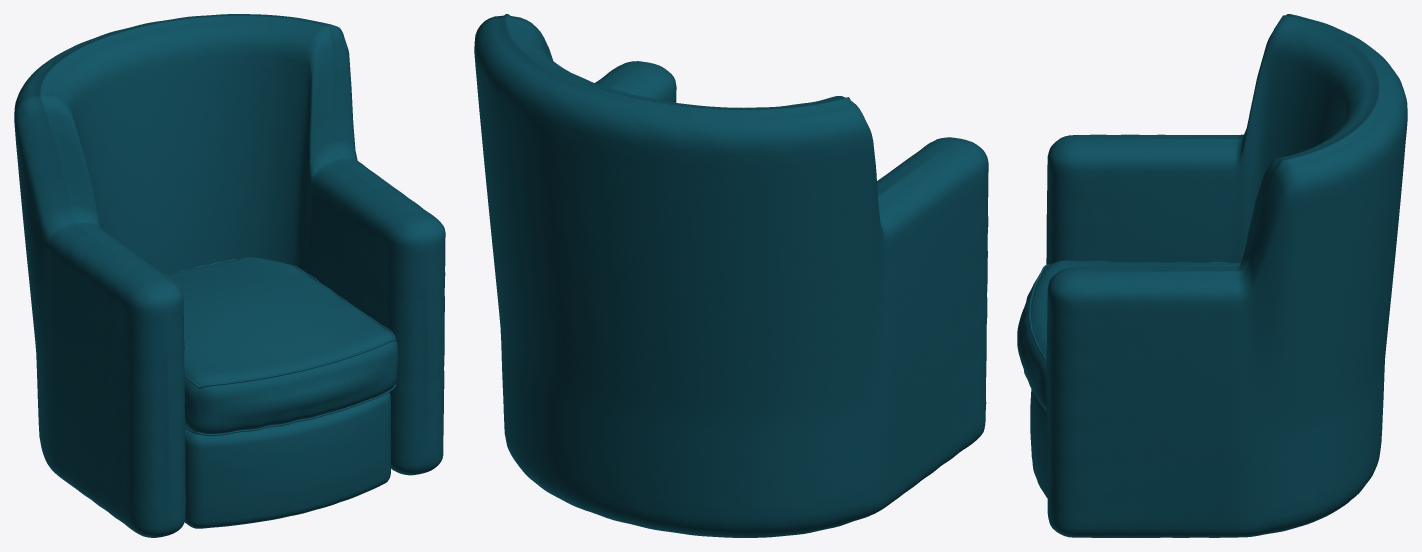
The model's file is stanza-armchair-01.glb.
The picture shows the model from 3 angles, left to right: view 1: azimuth 30°, elevation 25°; view 2: azimuth 150°, elevation 25°; view 3: azimuth 270°, elevation 25°; orthographic projection. The views are drawn at different scales.
Visible parts, largest first — view 1: shell, seat_cushion, drum_base, seat_cushion_welt_top, seat_cushion_welt_bottom; view 2: shell; view 3: shell, seat_cushion, drum_base, seat_cushion_welt_top.
Part boxes in pixels (x1=…): shell: x1=14, y1=14, x2=445, y2=537; seat_cushion: x1=165, y1=257, x2=397, y2=435; drum_base: x1=184, y1=392, x2=390, y2=528; seat_cushion_welt_top: x1=164, y1=258, x2=395, y2=388; seat_cushion_welt_bottom: x1=185, y1=384, x2=395, y2=435; shell: x1=474, y1=14, x2=988, y2=537; shell: x1=1046, y1=14, x2=1407, y2=537; seat_cushion: x1=1017, y1=261, x2=1240, y2=408; drum_base: x1=1030, y1=389, x2=1047, y2=497; seat_cushion_welt_top: x1=1028, y1=260, x2=1231, y2=361.
Bounding box in the file's own units: 0.9828 × 1.05 × 0.9728.
2 materials, 2 textured.
